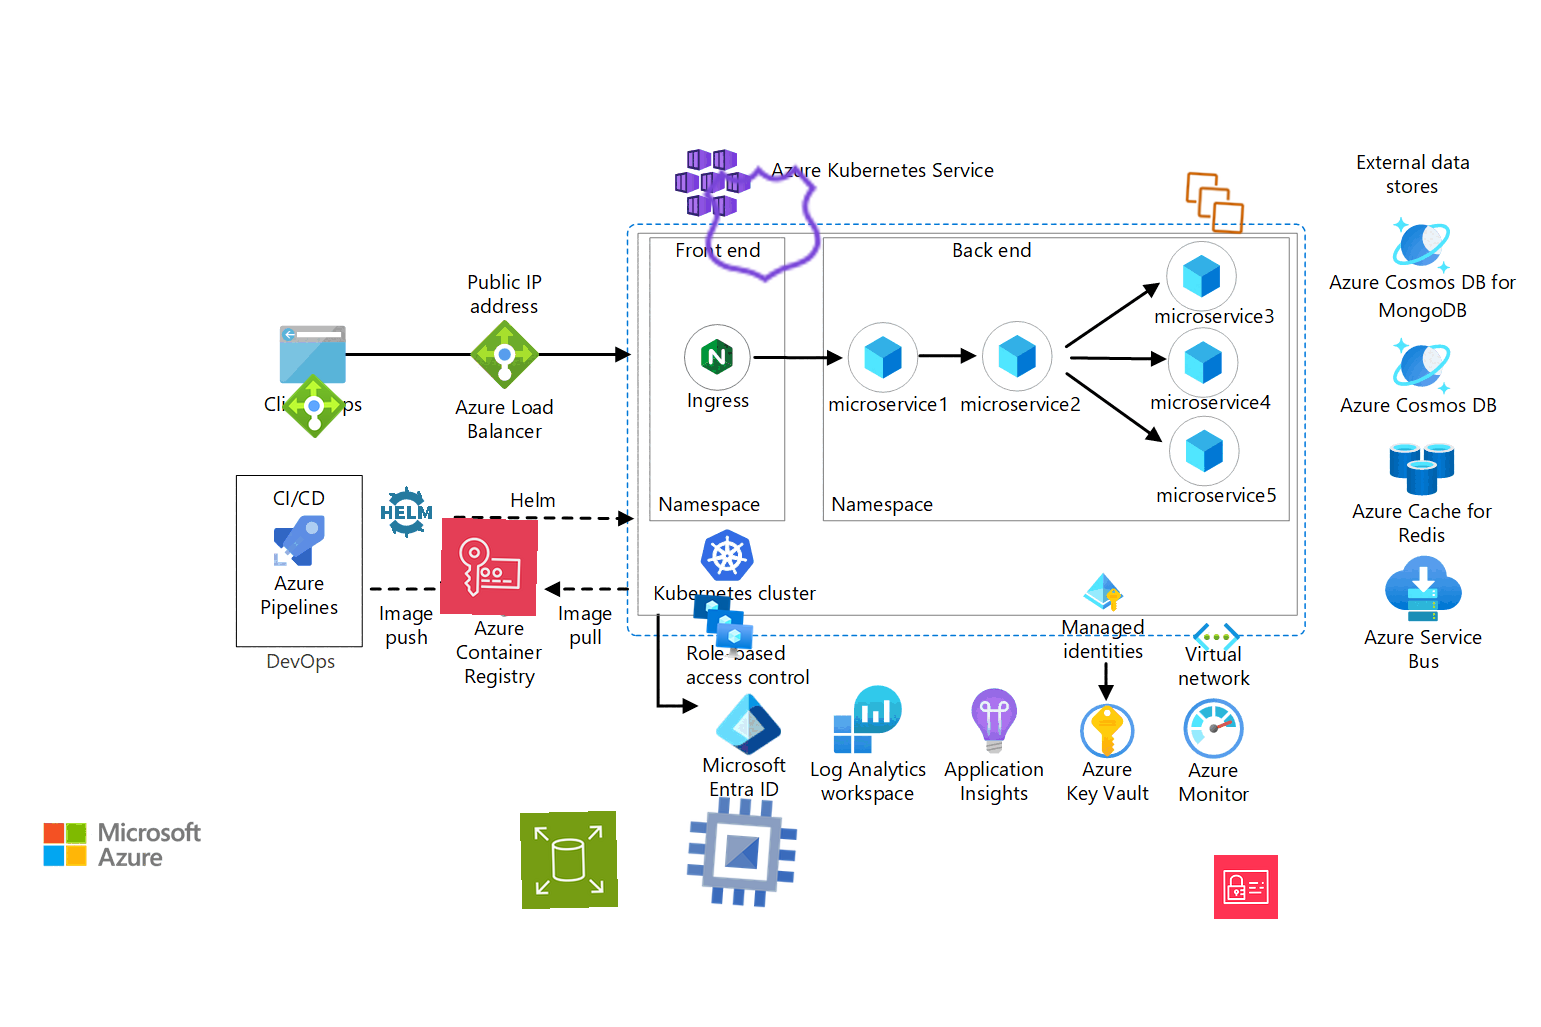aws_amazon_elastic_block_store: (519, 810, 619, 910)
aws_ec2_instances: (1181, 168, 1249, 237)
aws_identity_and_access_management: (1213, 854, 1279, 920)
aws_key_management_service: (439, 517, 538, 617)
aws_route_53_hosted_zone: (695, 156, 831, 292)
azure_load_balancers: (280, 373, 348, 440)
azure_vm_scale_sets: (687, 590, 757, 660)
gcp_compute_engine: (673, 783, 811, 922)
